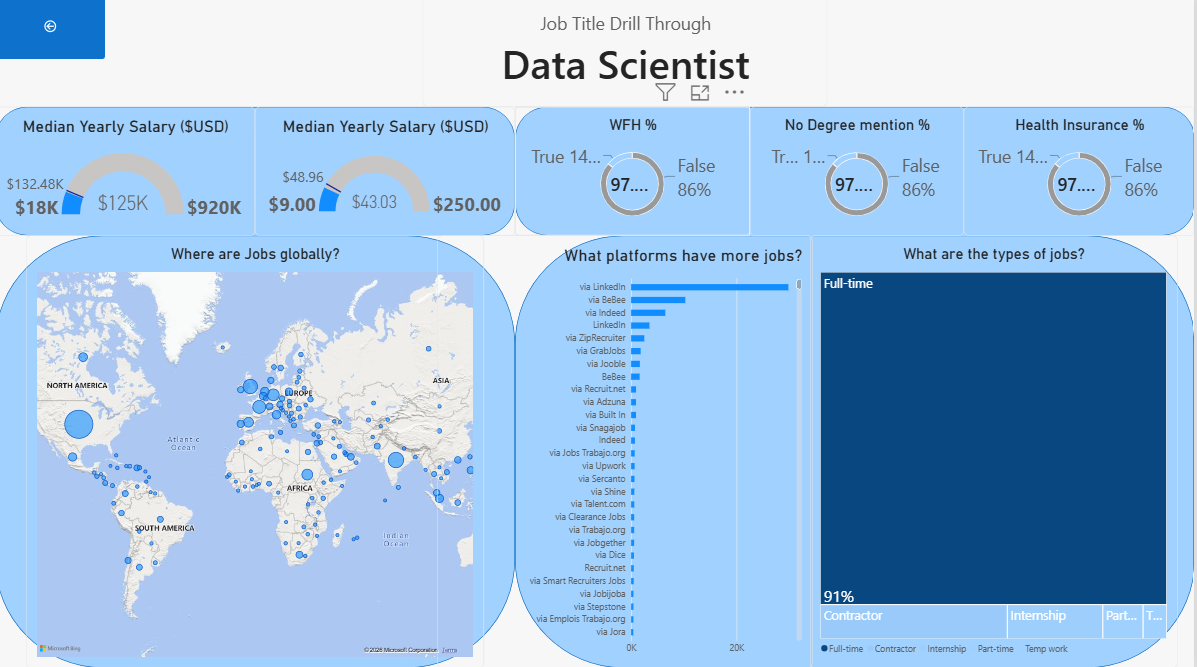

Layout of this report page (visuals, bound fields, positions):
{"tool":"powerbi","page":{"name":"Job Title Drill through","canvas":[1920,1080],"ordinal":1},"visuals":[{"type":"group","id":"g1","title":"Background","box":[0,182,1920,898],"z":0},{"type":"shape","box":[0,182,832,206],"z":0,"group":"g1"},{"type":"cardVisual","fields":{"Data":["Min(job_postings_flat.job_title_short)1"]},"box":[684,0,648,182],"z":1000},{"type":"shape","box":[832,182,1088,206],"z":1000,"group":"g1"},{"type":"actionButton","box":[0,0,176,106],"z":2000},{"type":"shape","box":[0,388,832,692],"z":2000,"group":"g1"},{"type":"gauge","title":"Median Yearly Salary ($USD)","fields":{"MaxValue":["Max(job_postings_flat.salary_year_avg)1"],"MinValue":["Min(job_postings_flat.salary_year_avg)"],"TargetValue":["Avg(job_postings_flat.salary_year_avg)2"],"Y":["Median(job_postings_flat.salary_year_avg)"]},"box":[0,182,416,206],"z":3000},{"type":"shape","box":[832,388,1088,692],"z":3000,"group":"g1"},{"type":"gauge","title":"Median Yearly Salary ($USD)","fields":{"MaxValue":["Max(job_postings_flat.salary_hour_avg)2"],"MinValue":["Min(job_postings_flat.salary_hour_avg)1"],"TargetValue":["Avg(job_postings_flat.salary_hour_avg)3"],"Y":["Median(job_postings_flat.salary_hour_avg)"]},"box":[416,182,416,206],"z":4000},{"type":"donutChart","title":"WFH %","fields":{"Category":["job_postings_flat.job_work_from_home"],"Y":["CountNonNull(job_postings_flat.job_work_from_home)"]},"box":[832,182,376,206],"z":6000},{"type":"donutChart","title":"No Degree mention %","fields":{"Category":["job_postings_flat.job_work_from_home"],"Y":["CountNonNull(job_postings_flat.job_work_from_home)"]},"box":[1208,182,342,206],"z":7000},{"type":"donutChart","title":"Health Insurance %","fields":{"Category":["job_postings_flat.job_work_from_home"],"Y":["CountNonNull(job_postings_flat.job_work_from_home)"]},"box":[1550,182,370,206],"z":8000},{"type":"map","title":"Where are Jobs globally?","fields":{"Category":["job_postings_flat.job_country"],"Size":["CountNonNull(job_postings_flat.job_title_short)"]},"box":[50,388,732,692],"z":9000},{"type":"treemap","title":"What are the types of jobs?","fields":{"Group":["job_postings_flat.job_schedule_type"],"Values":["CountNonNull(job_postings_flat.job_schedule_type)"]},"box":[1332,388,588,692],"z":10000},{"type":"barChart","title":"What platforms have more jobs?","fields":{"Category":["job_postings_flat.job_via"],"Y":["CountNonNull(job_postings_flat.job_via)"]},"box":[732,388,600,692],"z":11000}]}

Visuals, with their boxes in screenshot pixels (x1, y1, x2, y2), scaled from the page's 1920x1080 canvas onto the 1197x667 screenshot:
"Background" group: BBox(0, 112, 1196, 666)
shape: BBox(0, 112, 519, 240)
cardVisual - Min(job_postings_flat.job_title_short)1: BBox(426, 0, 830, 112)
shape: BBox(519, 112, 1196, 240)
actionButton: BBox(0, 0, 110, 65)
shape: BBox(0, 240, 519, 666)
"Median Yearly Salary ($USD)" gauge: BBox(0, 112, 259, 240)
shape: BBox(519, 240, 1196, 666)
"Median Yearly Salary ($USD)" gauge: BBox(259, 112, 519, 240)
"WFH %" donutChart: BBox(519, 112, 753, 240)
"No Degree mention %" donutChart: BBox(753, 112, 966, 240)
"Health Insurance %" donutChart: BBox(966, 112, 1196, 240)
"Where are Jobs globally?" map: BBox(31, 240, 488, 666)
"What are the types of jobs?" treemap: BBox(830, 240, 1196, 666)
"What platforms have more jobs?" barChart: BBox(456, 240, 830, 666)
